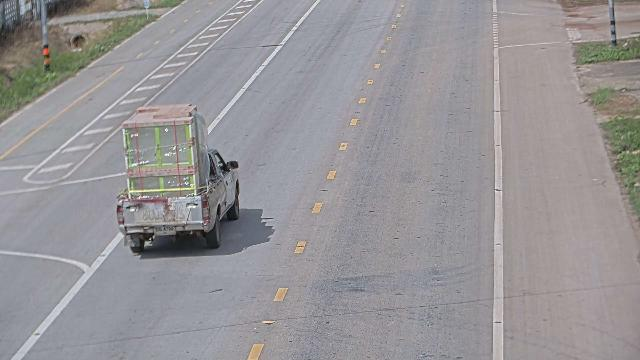pickup-truck: (115, 102, 241, 253)
